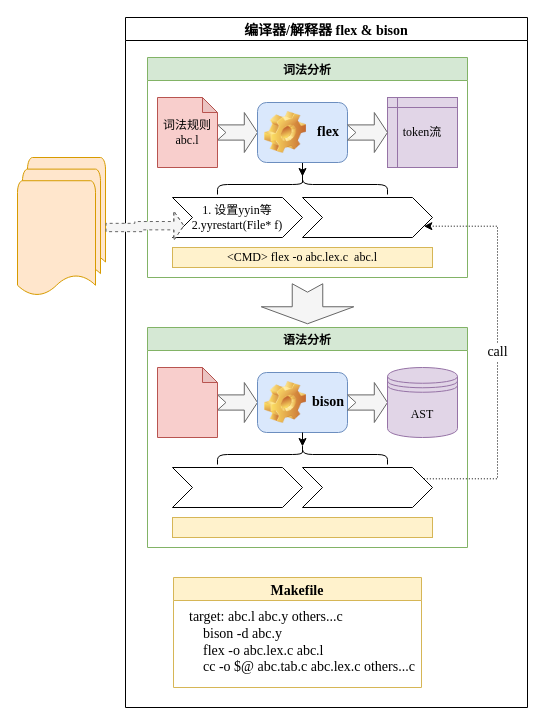
The diagram is 545 pixels wide and 725 high, and some of its shapes have lost their labels. Here are the shapes that lost their labels. From the top down, the centre of each, then its label:
At pixel 61 227: "源代码".
At pixel 367 217: "yylex()".
At pixel 187 402: "语法规则 abc.y".
At pixel 367 487: "yyparse()".
At pixel 302 527: "<CMD> bison -d abc.y // -o abc.tab.c/h".
